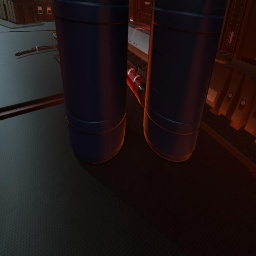FireExtinguisher ]: (127, 67, 146, 107)
